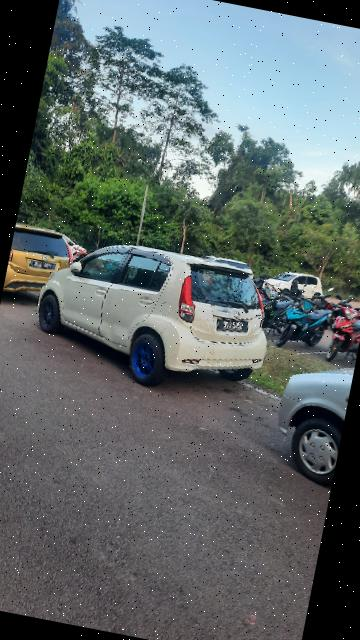License_Plate: (213, 316, 253, 339), (29, 258, 58, 274)
car: (29, 228, 289, 406), (1, 220, 80, 316)
